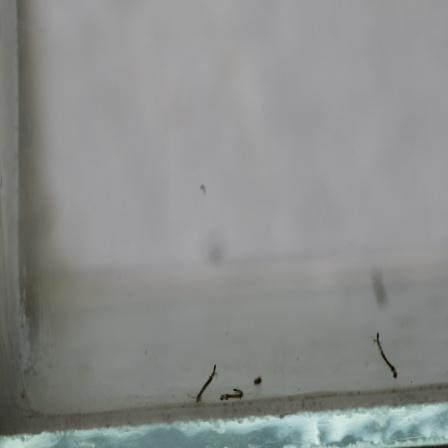Jentik-Nyamuk: (369, 327, 400, 379), (192, 363, 218, 406), (218, 385, 246, 403)
